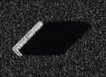mine: (11, 18, 90, 59)
